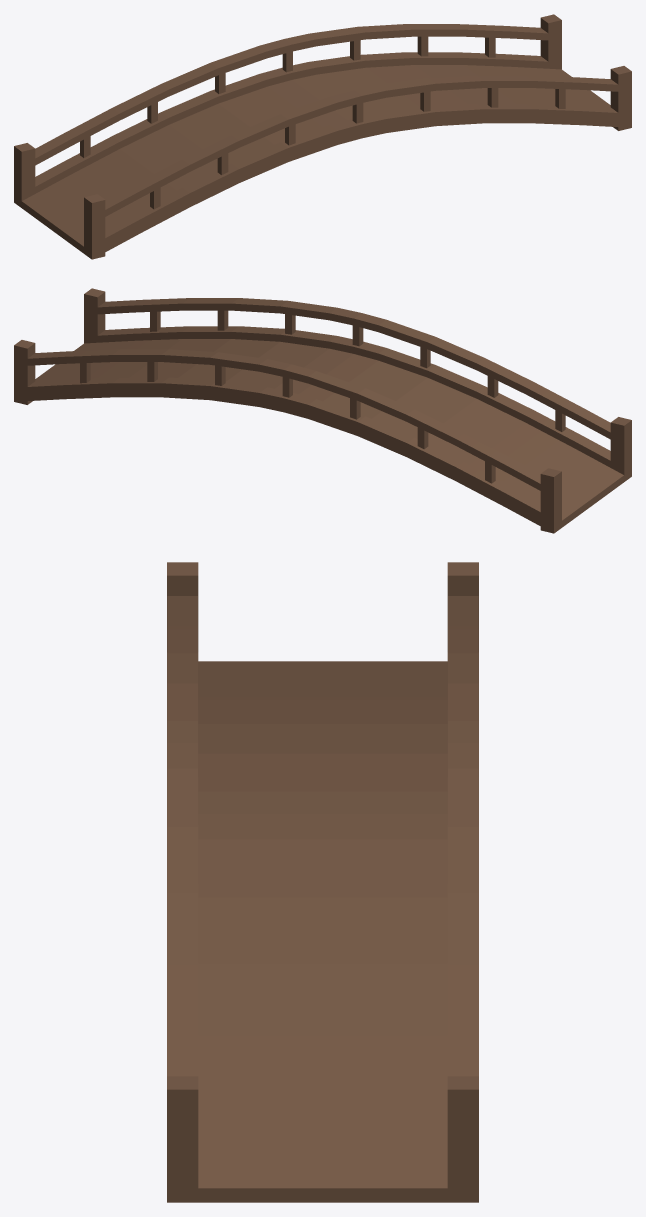
Rendered from SPW_Medieval_Wood Bridge.glb.
3 renders of one model, top to bottom at view 1: azimuth 30°, elevation 25°; view 2: azimuth 150°, elevation 25°; view 3: azimuth 270°, elevation 25°, orthographic. The views are drawn at different scales.
Parts seen in each view (by area): view 1: SPW_Medieval_Wood Bridge; view 2: SPW_Medieval_Wood Bridge; view 3: SPW_Medieval_Wood Bridge.
Part boxes in pixels (bbox=[...]): SPW_Medieval_Wood Bridge: bbox=[14, 14, 631, 259]; SPW_Medieval_Wood Bridge: bbox=[14, 288, 631, 533]; SPW_Medieval_Wood Bridge: bbox=[167, 562, 478, 1202].
Bounding box in the file's own units: 20 × 3.46 × 5.
Materials: 1 (1 with a texture image).
